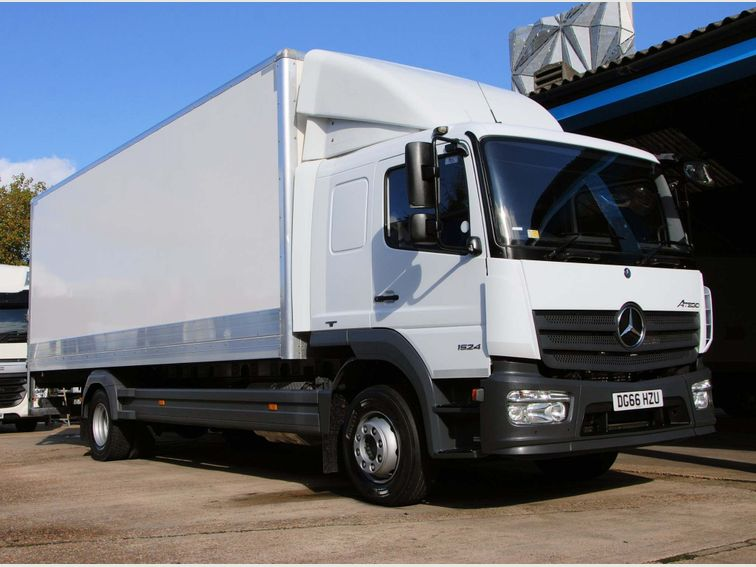Semi: (28, 47, 713, 505)
